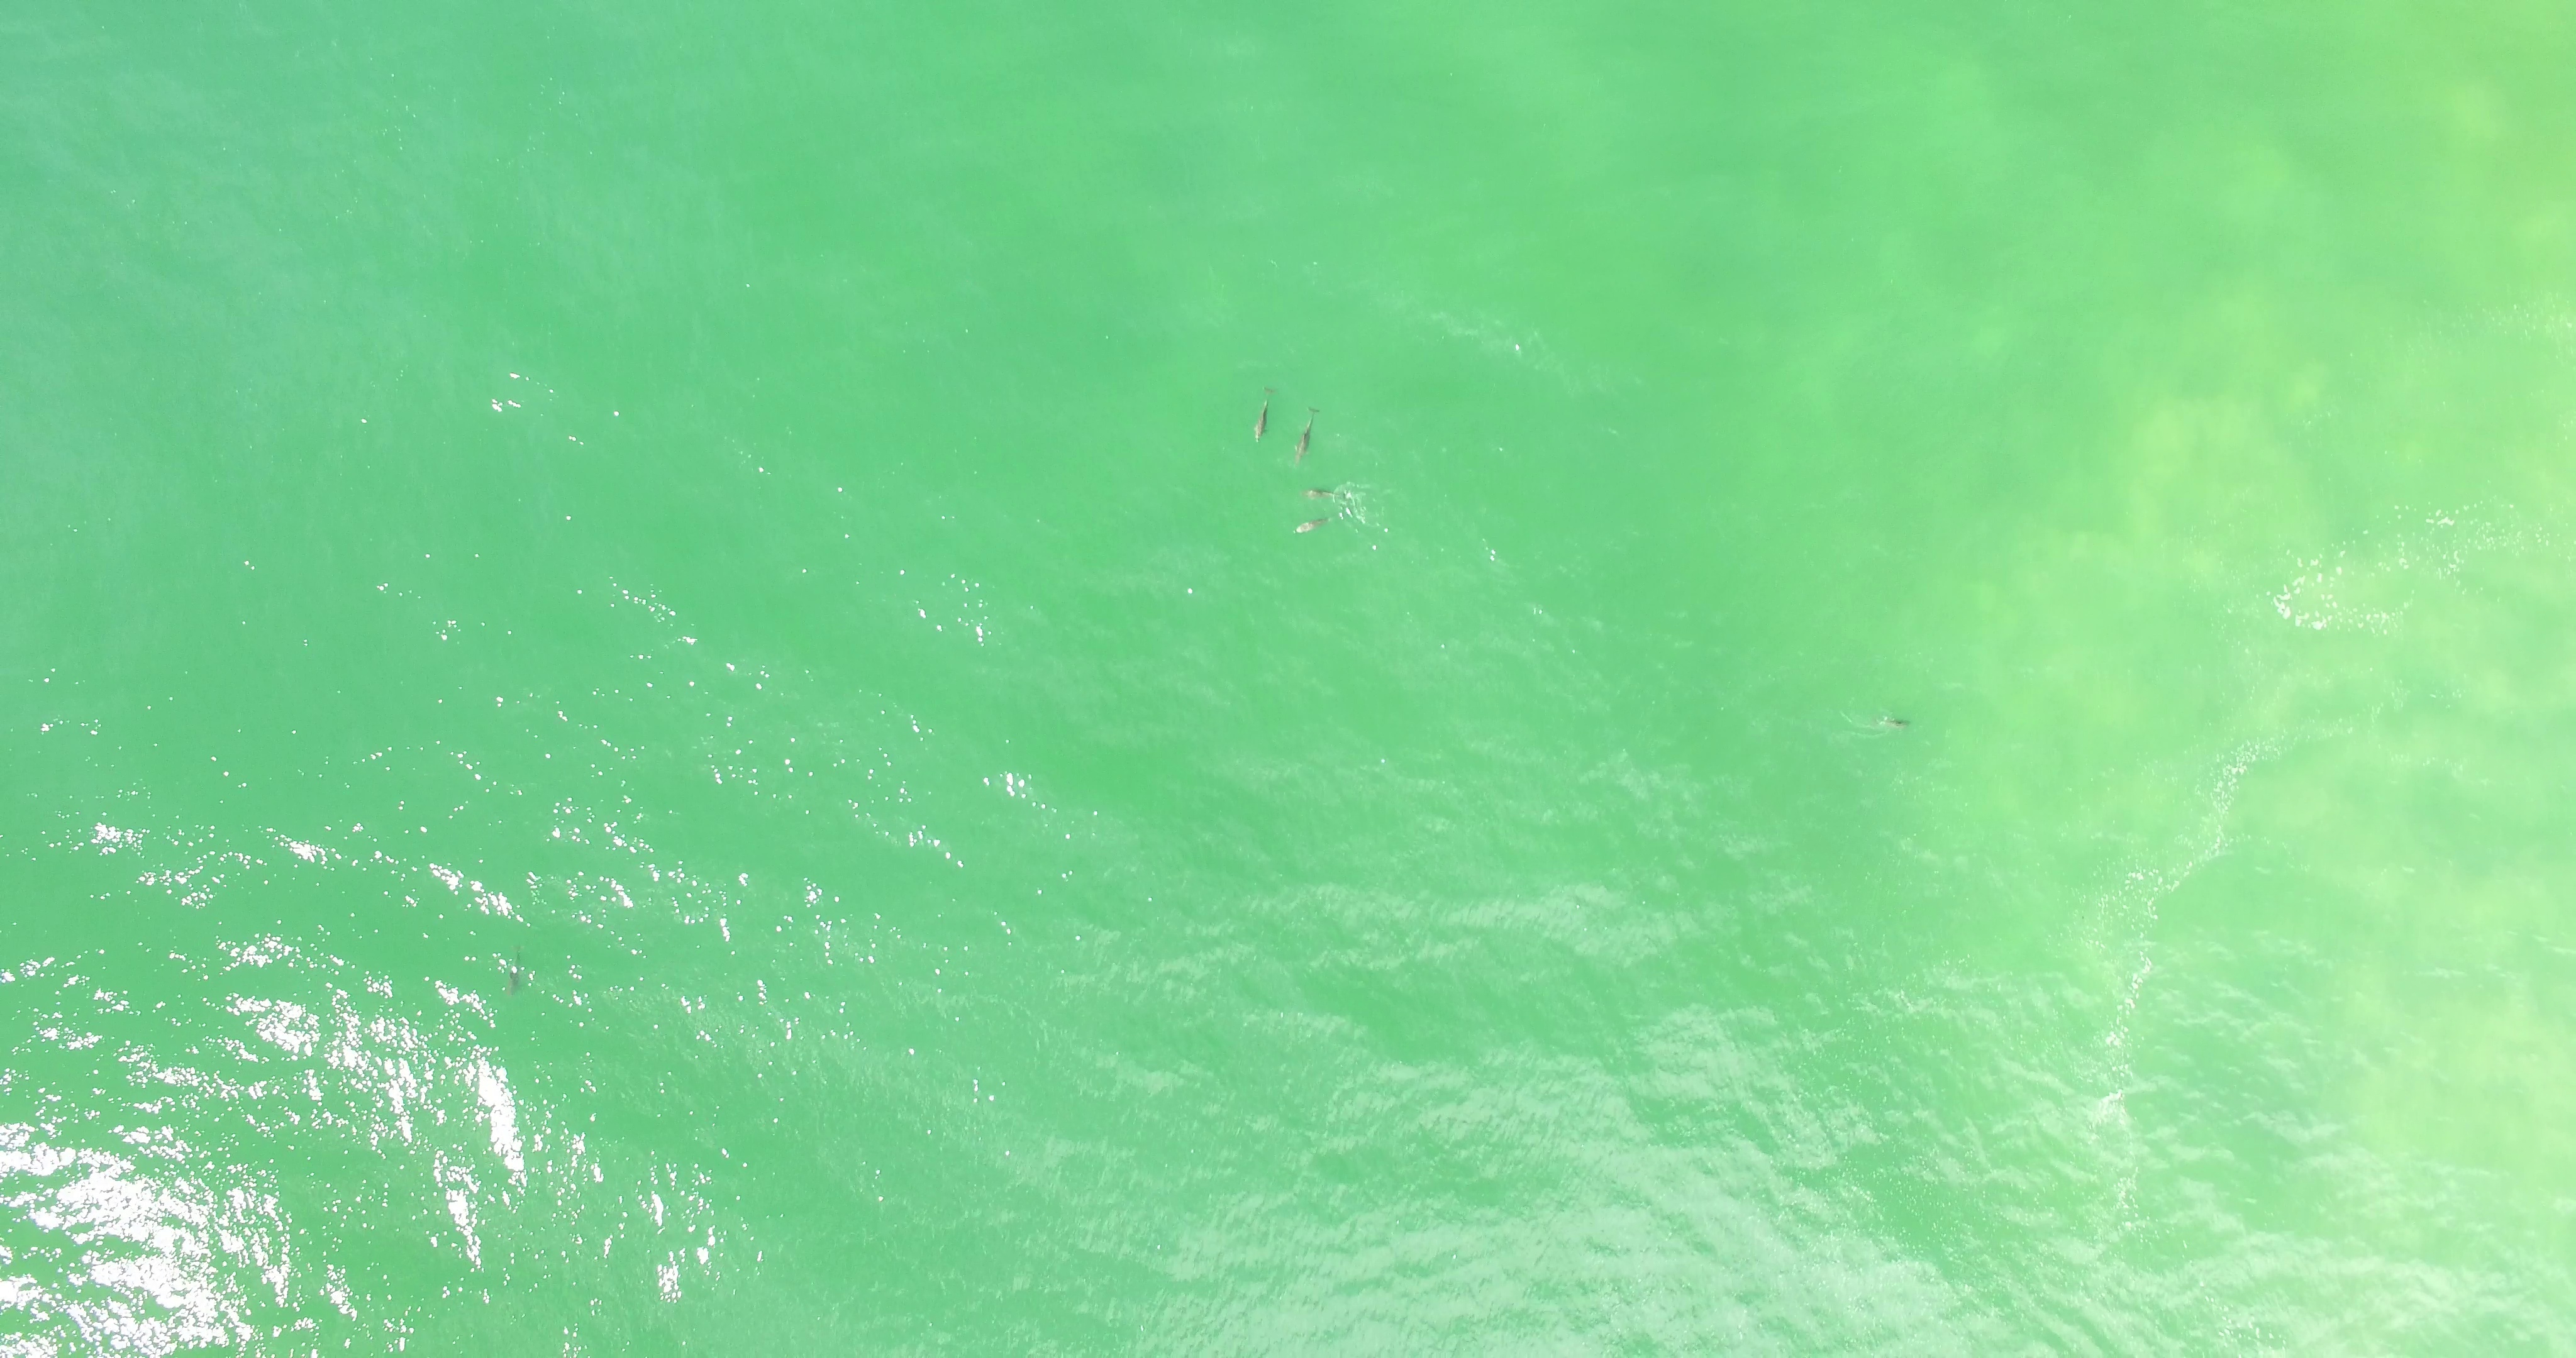dolphin: (1291, 503, 1365, 537), (1293, 404, 1320, 463), (504, 944, 528, 1000), (1252, 387, 1276, 441), (1297, 480, 1356, 501), (1871, 714, 1917, 731)
